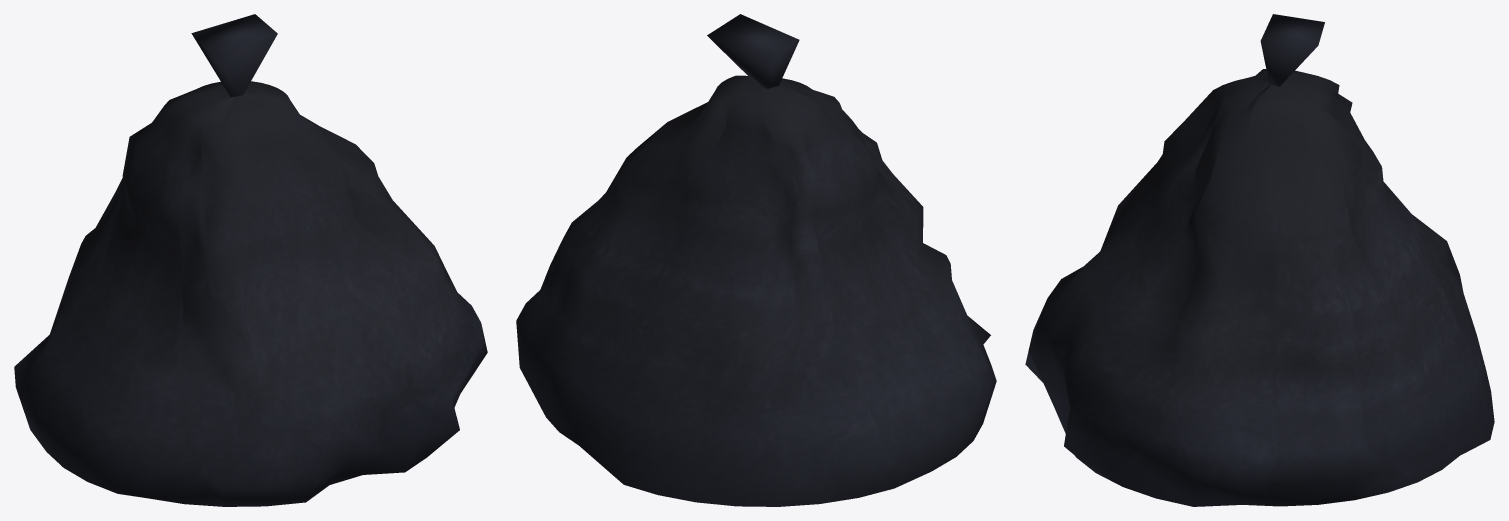
Rendered from Müll_L.fbx.
3 renders of one model, left to right at view 1: azimuth 30°, elevation 25°; view 2: azimuth 150°, elevation 25°; view 3: azimuth 270°, elevation 25°, orthographic. The views are drawn at different scales.
Parts seen in each view (by area): view 1: Cube; view 2: Cube; view 3: Cube.
Part boxes in pixels (<box>): Cube: <box>14,14,487,506</box>; Cube: <box>516,14,996,506</box>; Cube: <box>1025,14,1494,506</box>.
Bounding box in the file's own units: 96.83 × 86.2 × 92.34.
